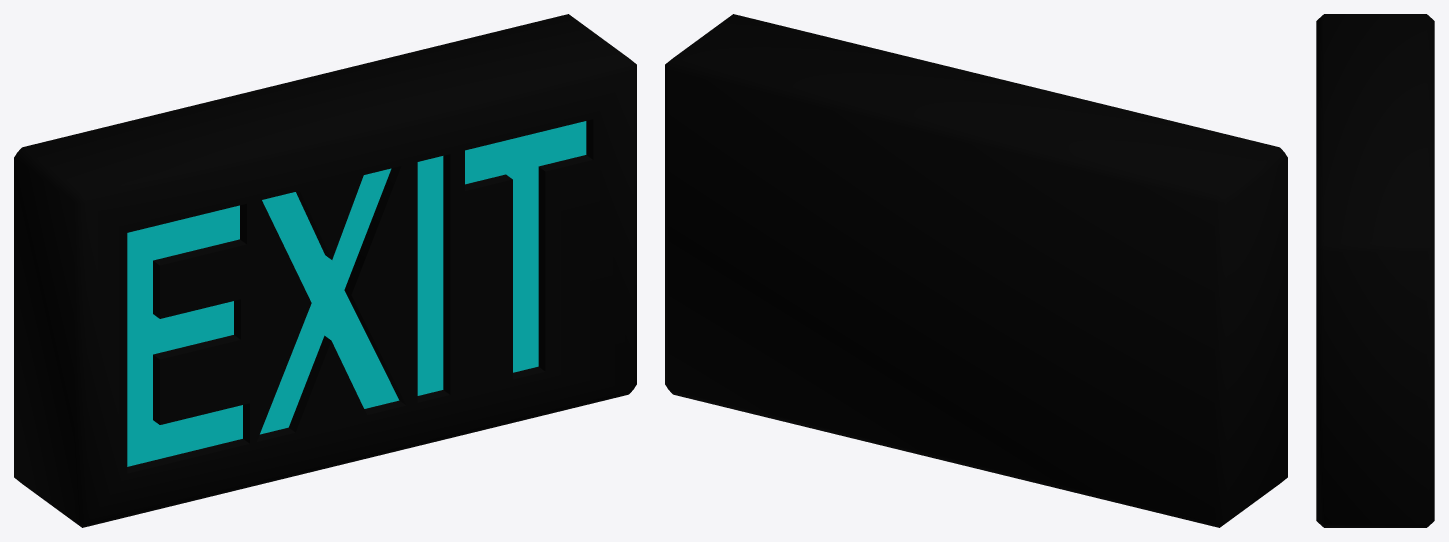
File: SM_Exit.fbx
3 renders of one model, left to right at view 1: azimuth 30°, elevation 25°; view 2: azimuth 150°, elevation 25°; view 3: azimuth 270°, elevation 25°, orthographic. The views are drawn at different scales.
Parts seen in each view (by area): view 1: gameopolis; view 2: gameopolis; view 3: gameopolis.
Boxes of the visible parts, box(x1,y1,x2,y2) form: gameopolis: box(14, 14, 636, 527); gameopolis: box(665, 14, 1287, 527); gameopolis: box(1316, 14, 1434, 527).
Size of the model in its own units: 1.4 by 0.8 by 0.3.
